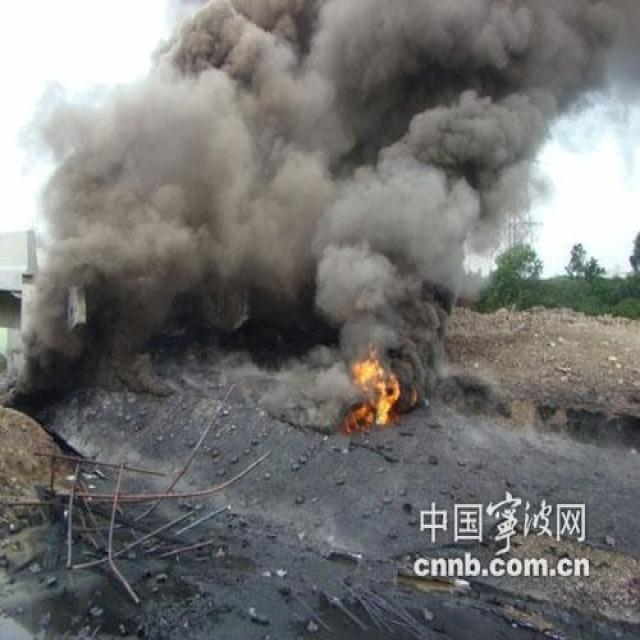Fire: (342, 344, 401, 434)
Smoke: (1, 2, 639, 360)
